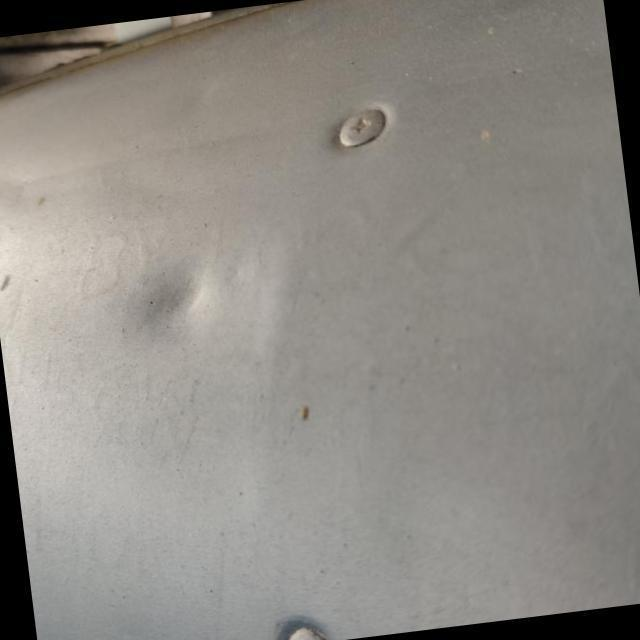dent: (120, 254, 216, 336)
